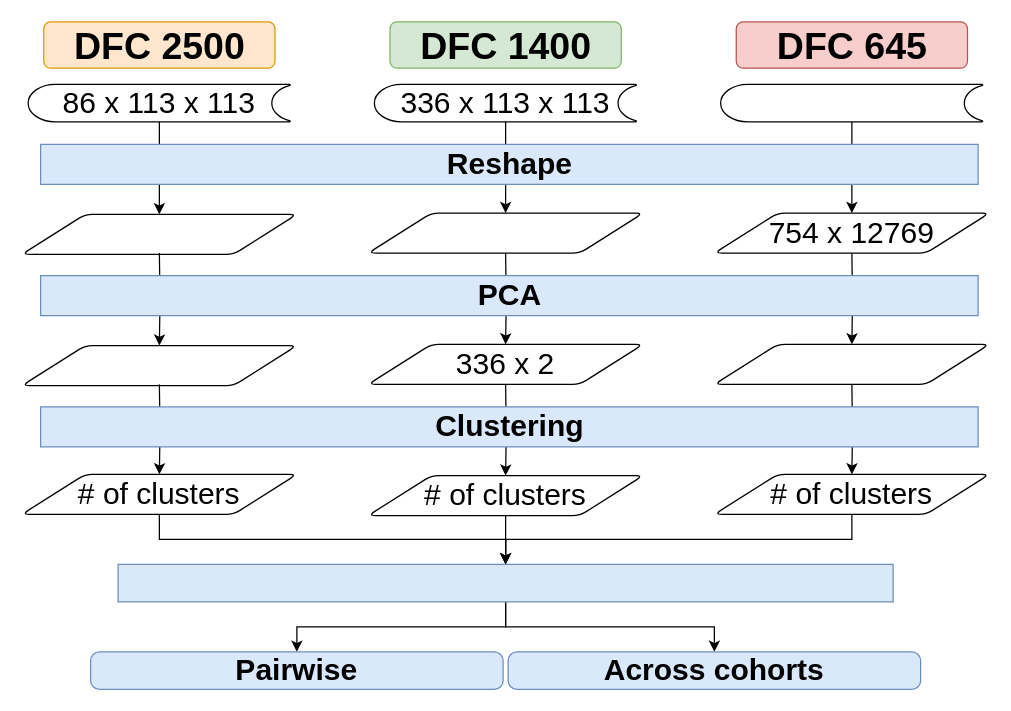
The diagram is 1011 pixels wide and 711 high, and some of its shapes have lost their labels. The shapes that lost their labels are listed below. From the top down, each one's centre as x and y in pixels, then its label:
At point 851,102: "754 x 113 x 113".
At point 159,233: "86 x 12769".
At point 505,232: "336 x 12769".
At point 159,365: "86 x 2".
At point 851,363: "754 x 2".
At point 505,582: "Statistical Analysis".
